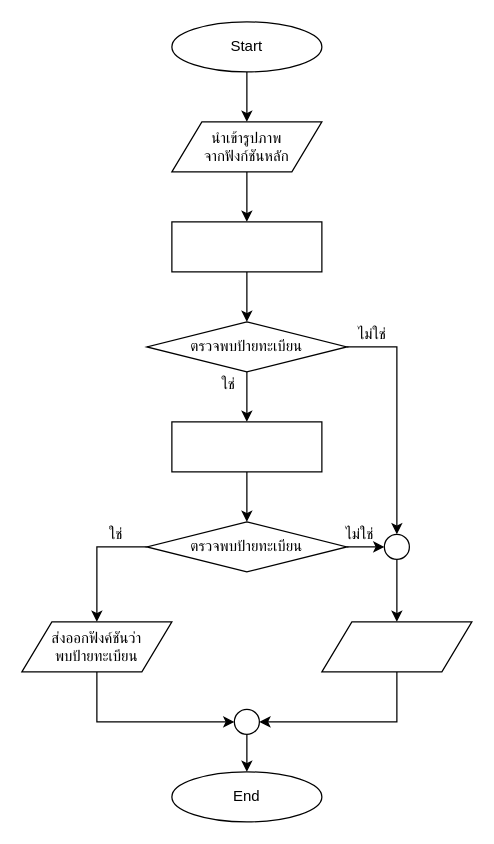
Some shapes in this 494 by 844 pixel diagram are drawn without their labels. Here are the shapes that lost their labels. From the top down, the centre of each, then its label:
At (x=246, y=246): "ตรวจจับกรอบป้ายทะเบียน".
At (x=246, y=446): "ตวรจจับตัวอักษรในป้ายทะเบียน".
At (x=396, y=646): "ส่งออกฟังค์ชันว่า ไม่พบป้ายทะเบียน".
